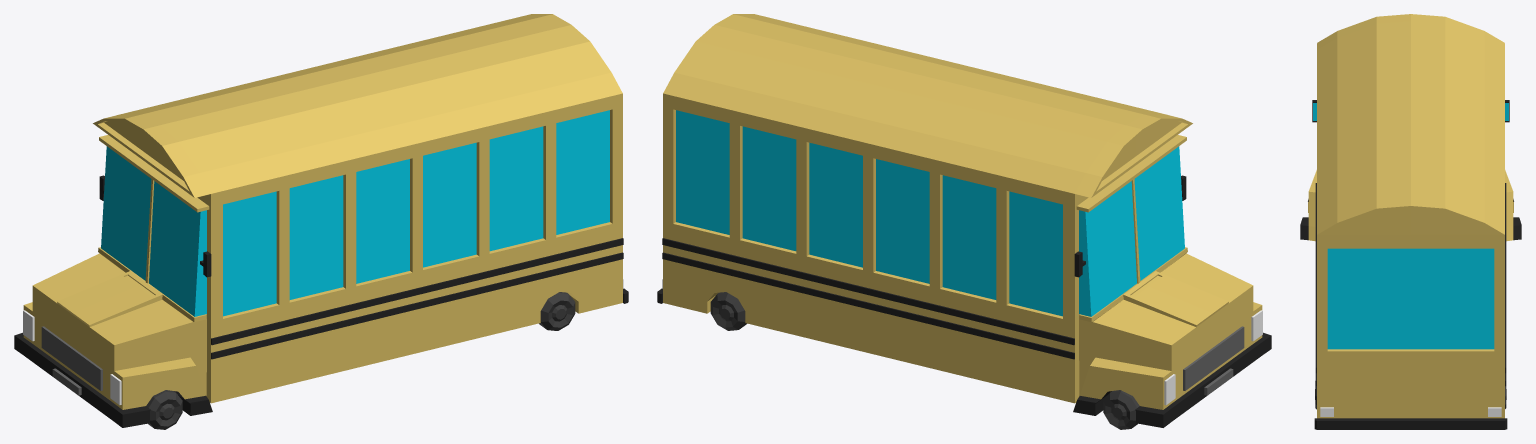
File: quaternius_cc0-school-bus-1323.glb
3 renders of one model, left to right at view 1: azimuth 30°, elevation 25°; view 2: azimuth 150°, elevation 25°; view 3: azimuth 270°, elevation 25°, orthographic. The views are drawn at different scales.
Visible parts, largest first — view 1: SchoolBus, FrontWheels, BackWheels; view 2: SchoolBus, FrontWheels, BackWheels; view 3: SchoolBus.
Part boxes in pixels (bbox=[...]): SchoolBus: bbox=[14, 14, 628, 427]; FrontWheels: bbox=[146, 390, 182, 429]; BackWheels: bbox=[539, 292, 575, 330]; SchoolBus: bbox=[657, 14, 1271, 427]; FrontWheels: bbox=[1103, 390, 1139, 429]; BackWheels: bbox=[710, 292, 746, 330]; SchoolBus: bbox=[1300, 14, 1521, 429].
Bounding box in the file's own units: 4.61 × 2.19 × 1.88.
